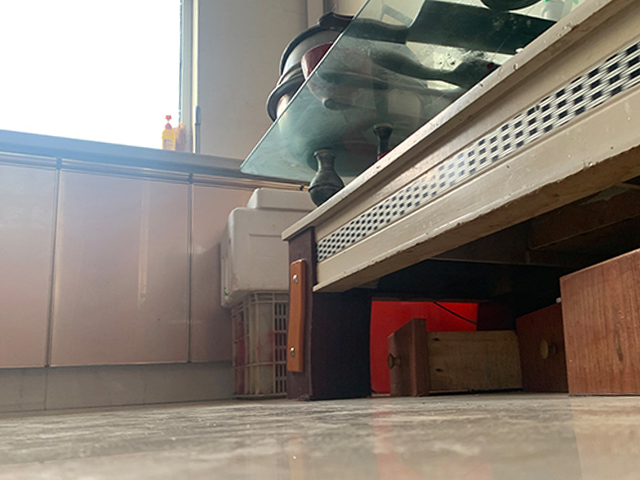cabinet: (1, 131, 216, 399)
table: (237, 1, 639, 401)
